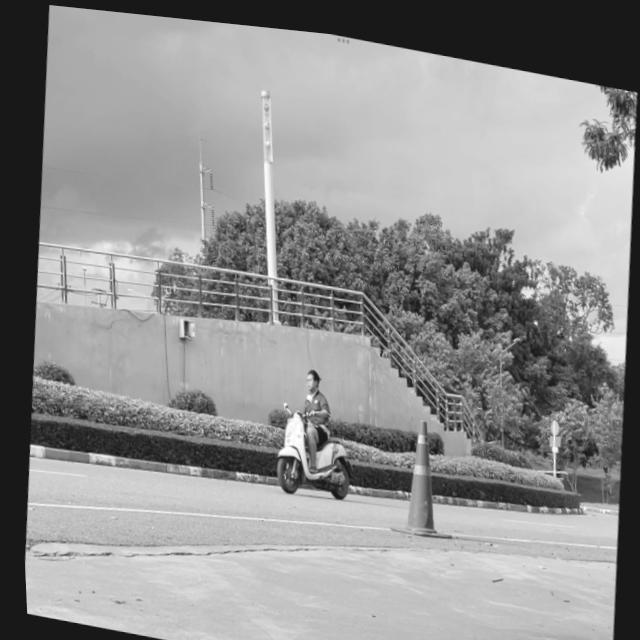seatbelt: (301, 361, 320, 387)
